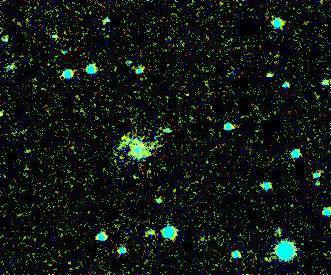star: (106, 121, 136, 151)
